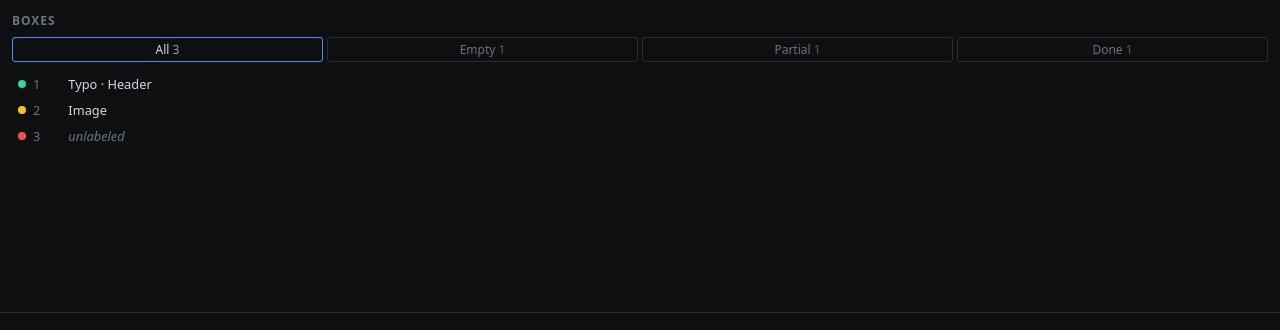
Test case: BoxList › filters by completeness with counts
The width and height of the screenshot is (1280, 330).
Check: the button "Empty 1" is shown, box x1=327 y1=37 x2=638 y2=62
Click the button "Partial 1" at [798, 50], box x1=642 y1=37 x2=953 y2=62
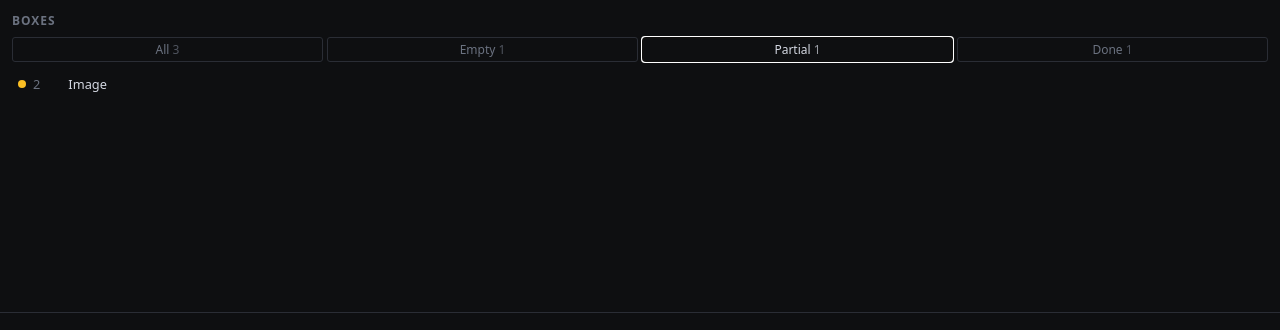
Check: the button "2 Image" is shown, box x1=12 y1=70 x2=1268 y2=97
Click the button "Empty 1" at [482, 50], box x1=327 y1=37 x2=638 y2=62
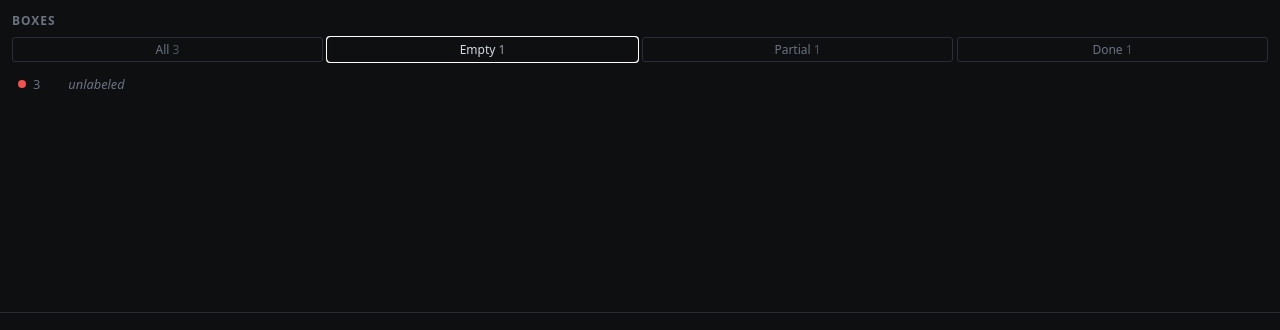
Check: the button "3 unlabeled" is shown, box x1=12 y1=70 x2=1268 y2=97
